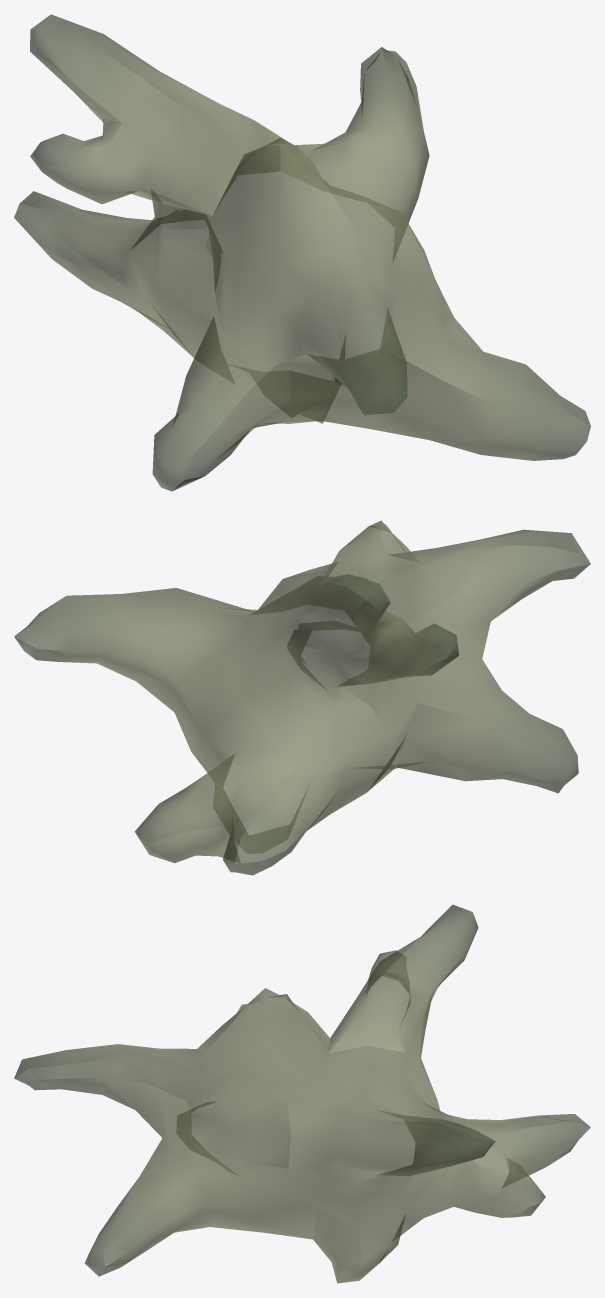
The model's file is microscopic-protists-amoeba_v4.glb.
The picture shows the model from 3 angles, top to bottom: view 1: azimuth 30°, elevation 25°; view 2: azimuth 150°, elevation 25°; view 3: azimuth 270°, elevation 25°; orthographic projection. The views are drawn at different scales.
Parts seen in each view (by area): view 1: Amoeba_v4; view 2: Amoeba_v4; view 3: Amoeba_v4.
Boxes of the visible parts, box(x1,y1,x2,y2) form: Amoeba_v4: box(14, 14, 590, 491); Amoeba_v4: box(14, 520, 590, 875); Amoeba_v4: box(14, 904, 590, 1283).
Size of the model in its own units: 0.1962 by 0.1731 by 0.3.
